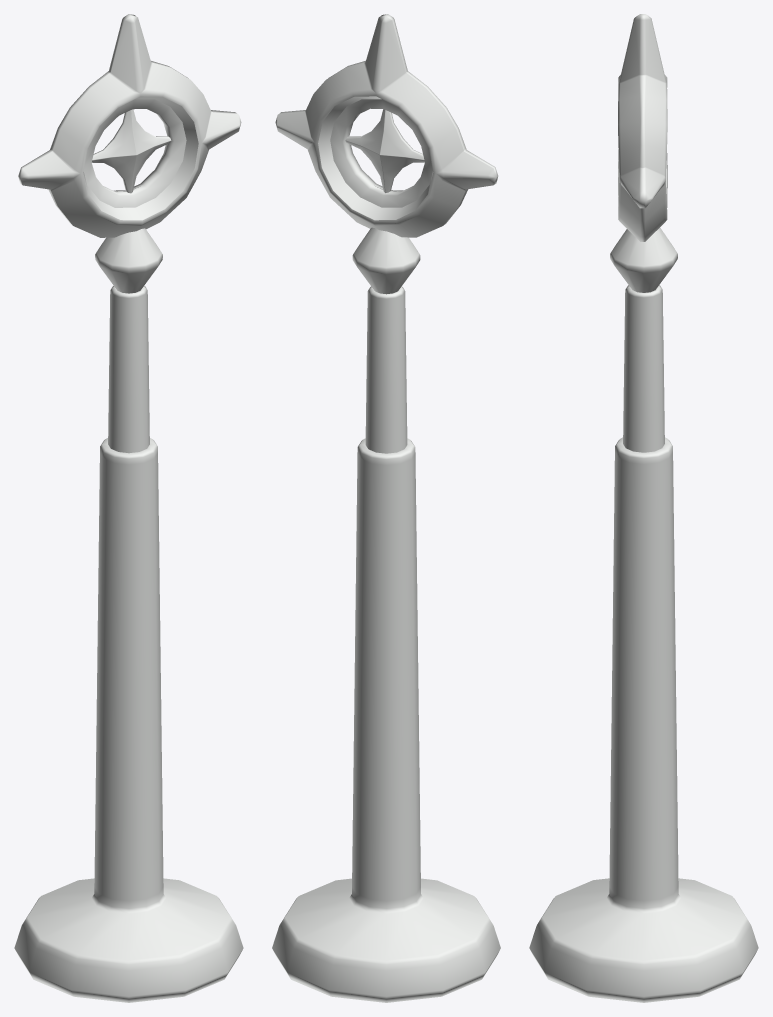
Rendered from CharSkyKid_Prop_MicStandGold.glb.
3 renders of one model, left to right at view 1: azimuth 30°, elevation 25°; view 2: azimuth 150°, elevation 25°; view 3: azimuth 270°, elevation 25°, orthographic.
Visible parts, largest first — view 1: CharSkyKid_Prop_MicStandGold; view 2: CharSkyKid_Prop_MicStandGold; view 3: CharSkyKid_Prop_MicStandGold.
Part boxes in pixels (x1,y1,x2,y2): CharSkyKid_Prop_MicStandGold: (14, 14, 243, 1002); CharSkyKid_Prop_MicStandGold: (272, 14, 500, 1002); CharSkyKid_Prop_MicStandGold: (529, 14, 758, 1002).
Size of the model in its own units: 2.99 by 12.2 by 2.69.
Materials: 1 (1 with a texture image).
